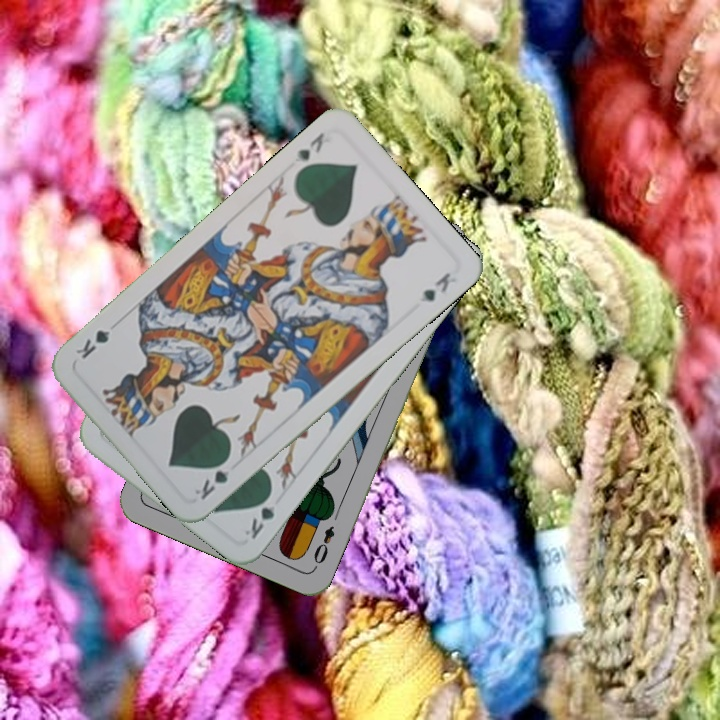EO: (309, 521, 338, 572)
GK: (190, 453, 233, 503), (240, 488, 278, 542), (290, 128, 327, 165)
